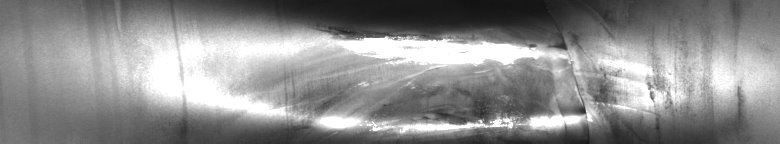ke: (281, 24, 672, 136)
